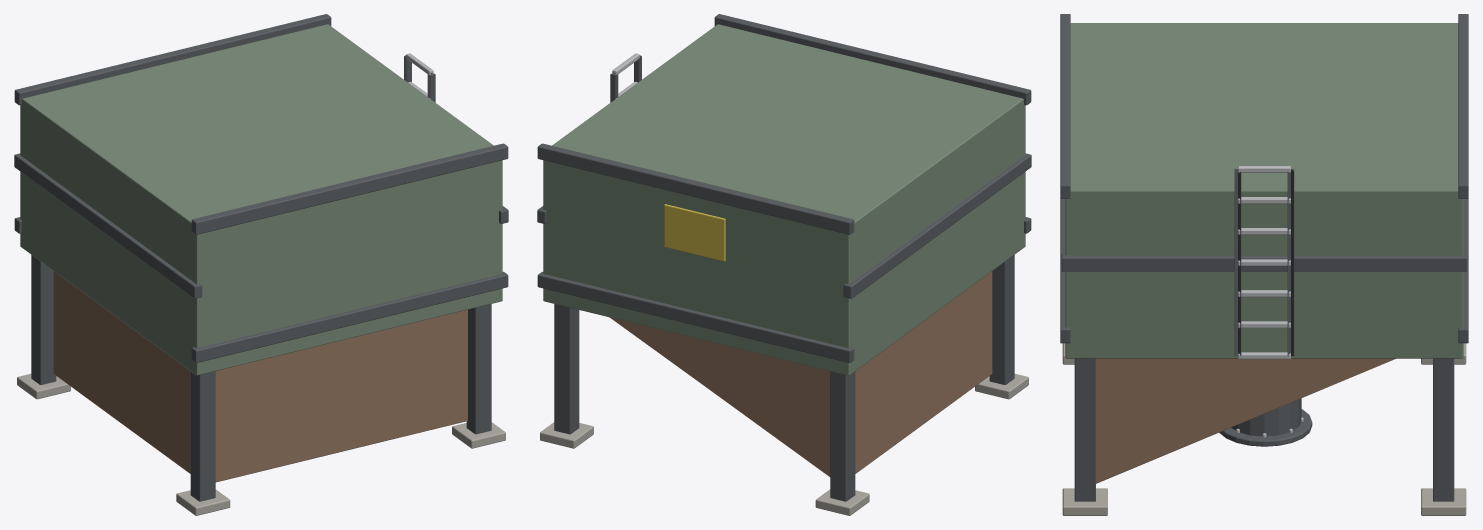
File: hopper_3.fbx
3 views of the same model, side by side, from view 1: azimuth 30°, elevation 25°; view 2: azimuth 150°, elevation 25°; view 3: azimuth 270°, elevation 25° (orthographic). The views are drawn at different scales.
Visible parts, largest first — view 1: hopper_3; view 2: hopper_3; view 3: hopper_3.
Part boxes in pixels (left/top/right/bottom): hopper_3: left=14, top=14, right=508, bottom=515; hopper_3: left=537, top=14, right=1031, bottom=515; hopper_3: left=1060, top=14, right=1468, bottom=515.
Size of the model in its own units: 3.12 by 2.92 by 3.08.
